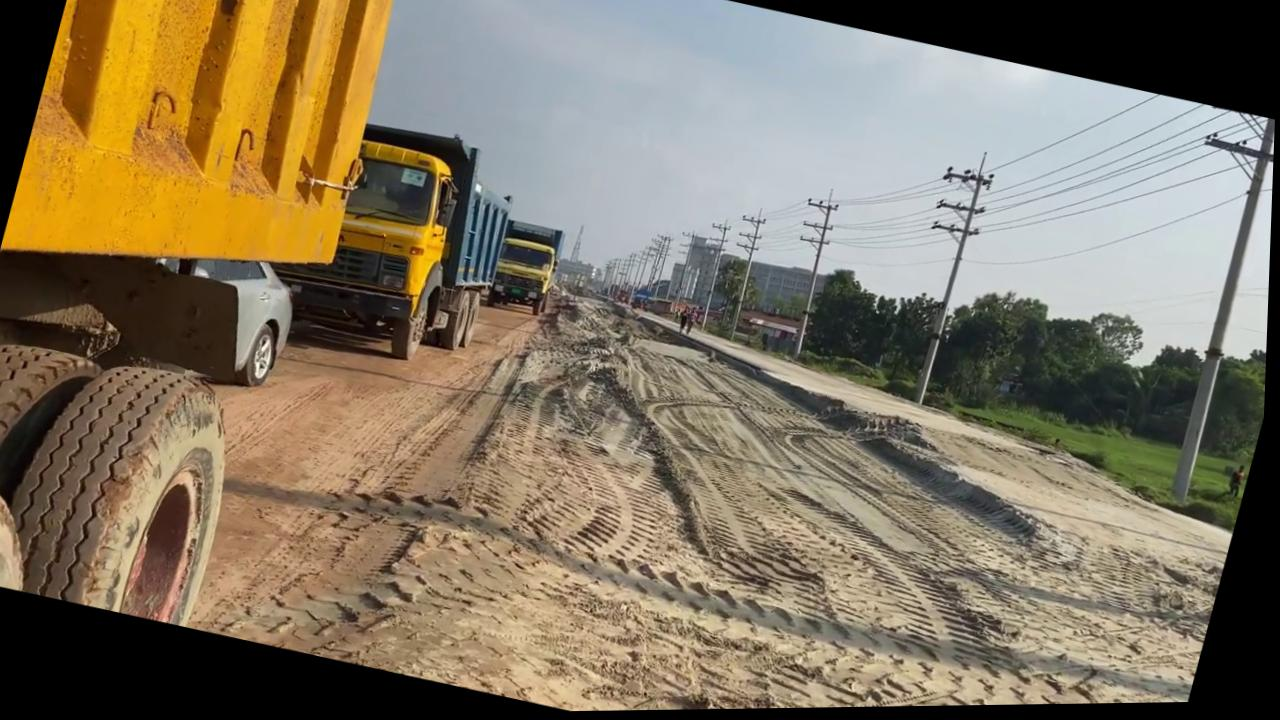Car: (130, 236, 310, 396)
Light-pole: (885, 145, 1002, 411)
Muddy road: (150, 206, 1267, 718)
Pole: (1167, 121, 1276, 507)
Tree: (0, 0, 422, 641), (253, 101, 531, 378), (486, 218, 570, 320), (631, 273, 673, 316)
